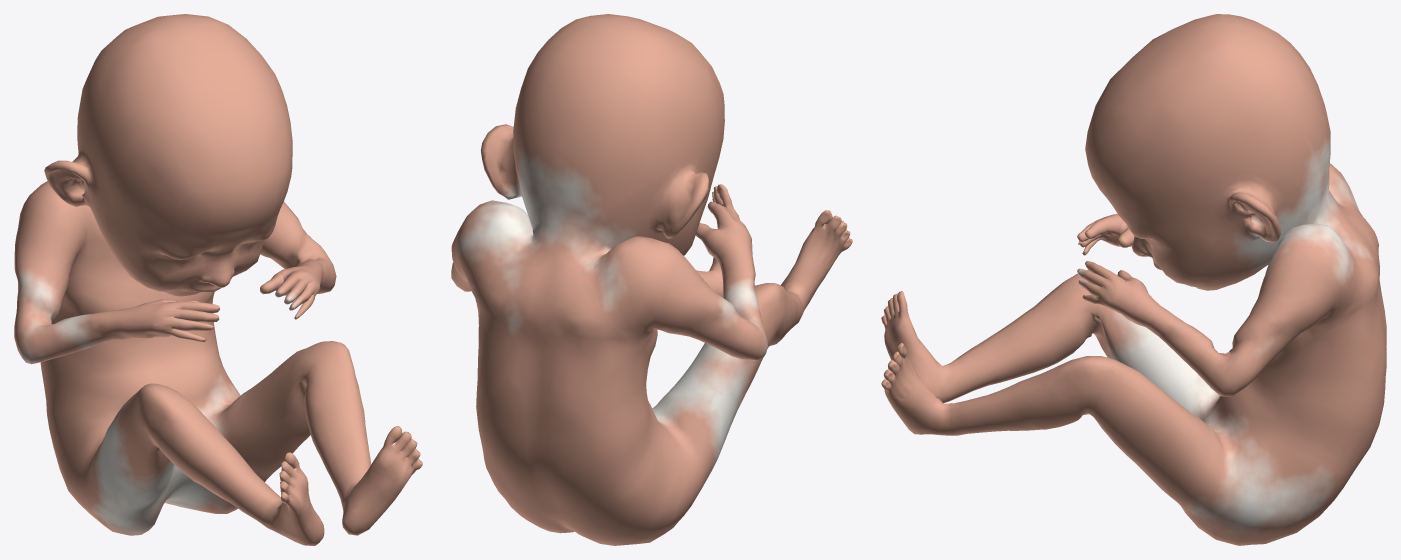
The picture shows the model from 3 angles, left to right: view 1: azimuth 30°, elevation 25°; view 2: azimuth 150°, elevation 25°; view 3: azimuth 270°, elevation 25°; orthographic projection.
Parts seen in each view (by area): view 1: Baby; view 2: Baby; view 3: Baby.
Part boxes in pixels (box(x1,y1,x2,y2)): Baby: box(14, 14, 422, 545); Baby: box(451, 14, 852, 545); Baby: box(881, 14, 1386, 545).
Bounding box in the file's own units: 0.1827 × 0.2815 × 0.2585.
1 material, 1 textured.
